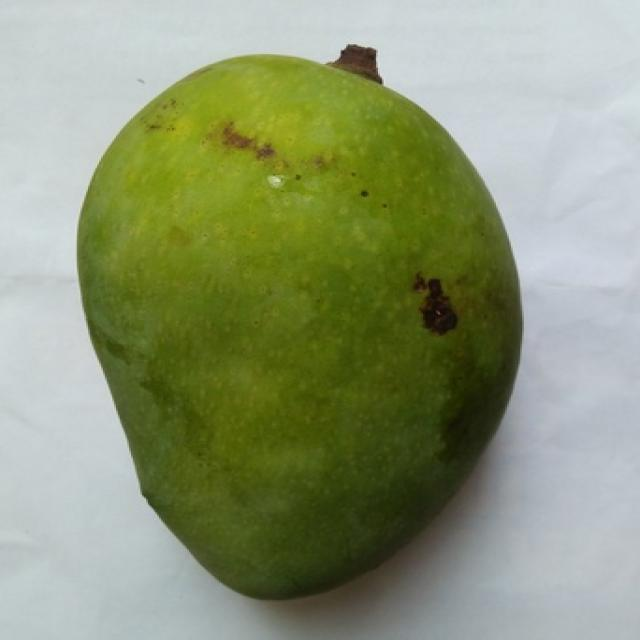Mango: (77, 57, 520, 599)
